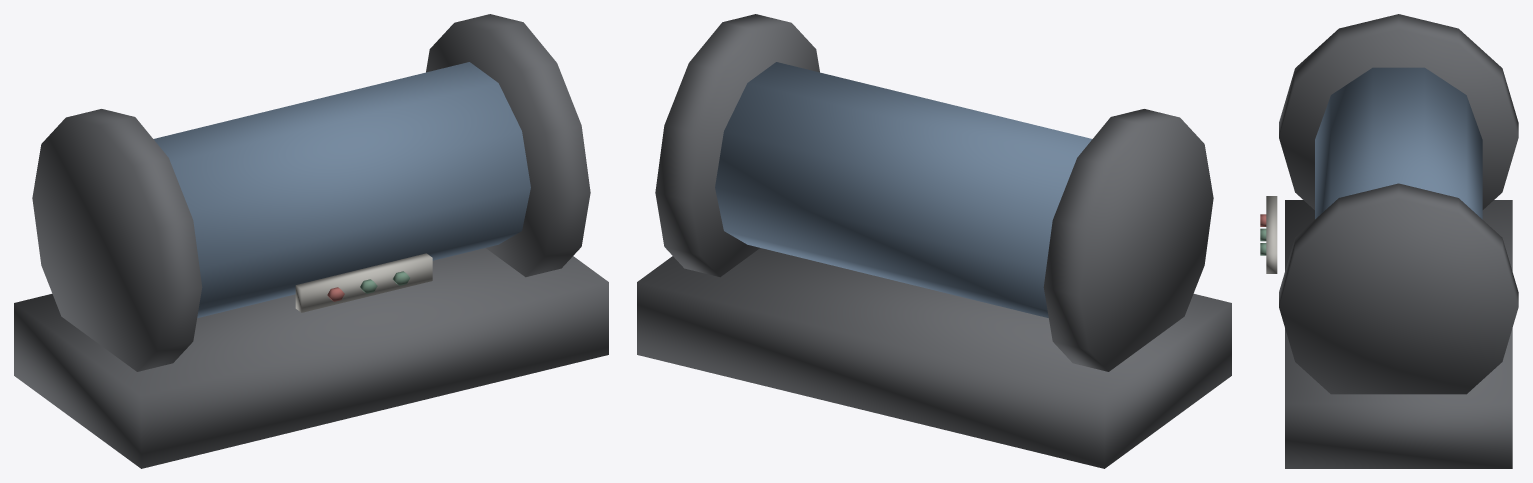
Rendered from bench_grinder__wide.glb.
3 renders of one model, left to right at view 1: azimuth 30°, elevation 25°; view 2: azimuth 150°, elevation 25°; view 3: azimuth 270°, elevation 25°, orthographic. The views are drawn at different scales.
Parts seen in each view (by area): view 1: world; view 2: world; view 3: world.
Boxes of the visible parts, x1,y1,x2,y2 form: world: [14, 14, 608, 468]; world: [637, 14, 1231, 468]; world: [1260, 14, 1518, 468].
Bounding box in the file's own units: 0.806 × 0.48 × 0.431.
